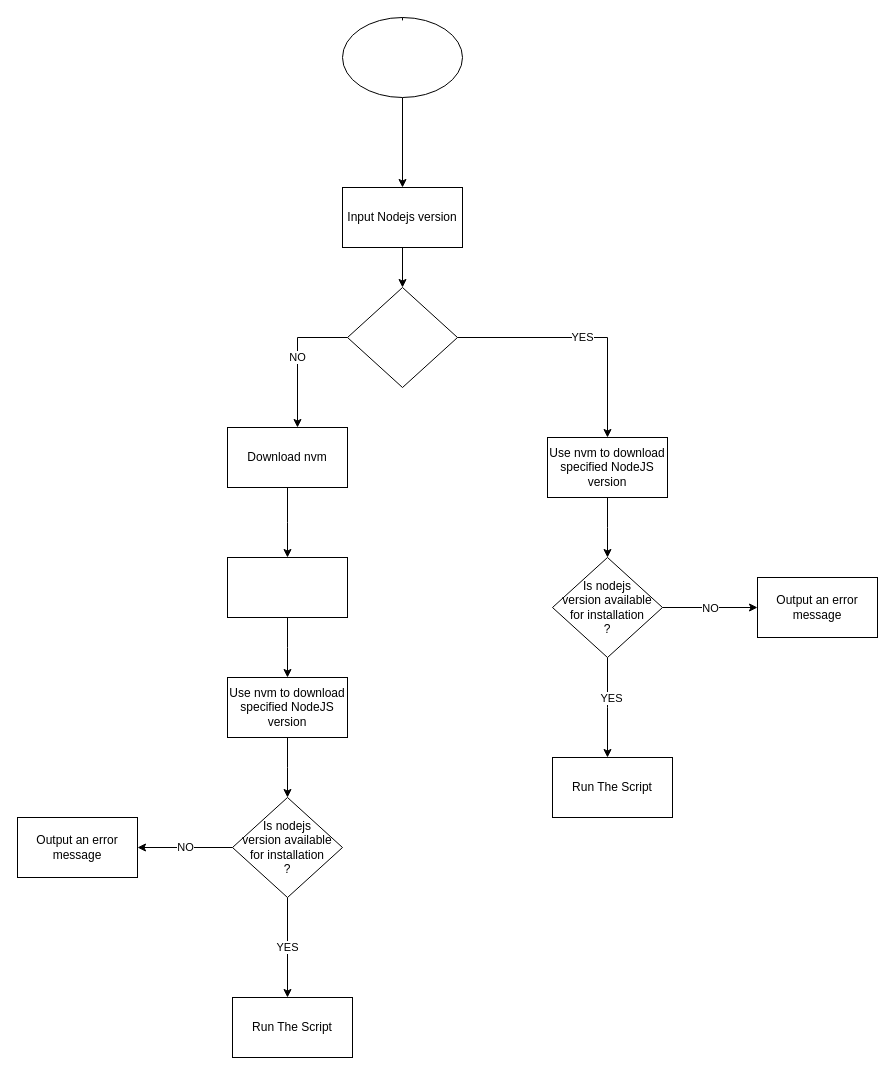
This 895x1075 diagram has some shape labels left out. Here are the shapes that lost their labels. From the top down, the centre of each, then its label:
[402,57]: Run Script
[402,337]: Is there nvm?
[287,587]: Set environmental variables
